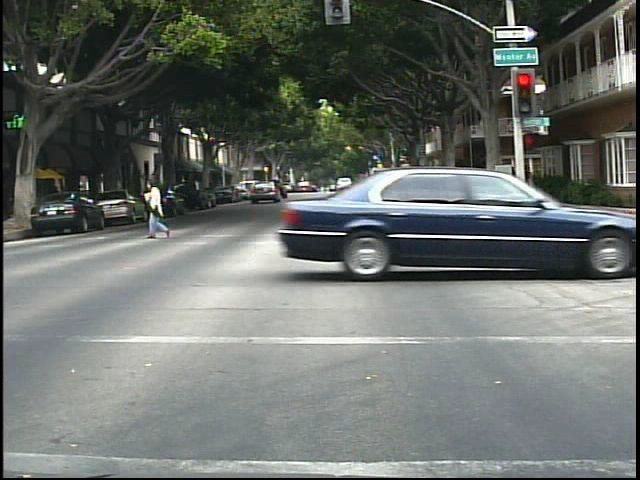person: (138, 172, 179, 243), (372, 172, 397, 217), (438, 168, 439, 192)
